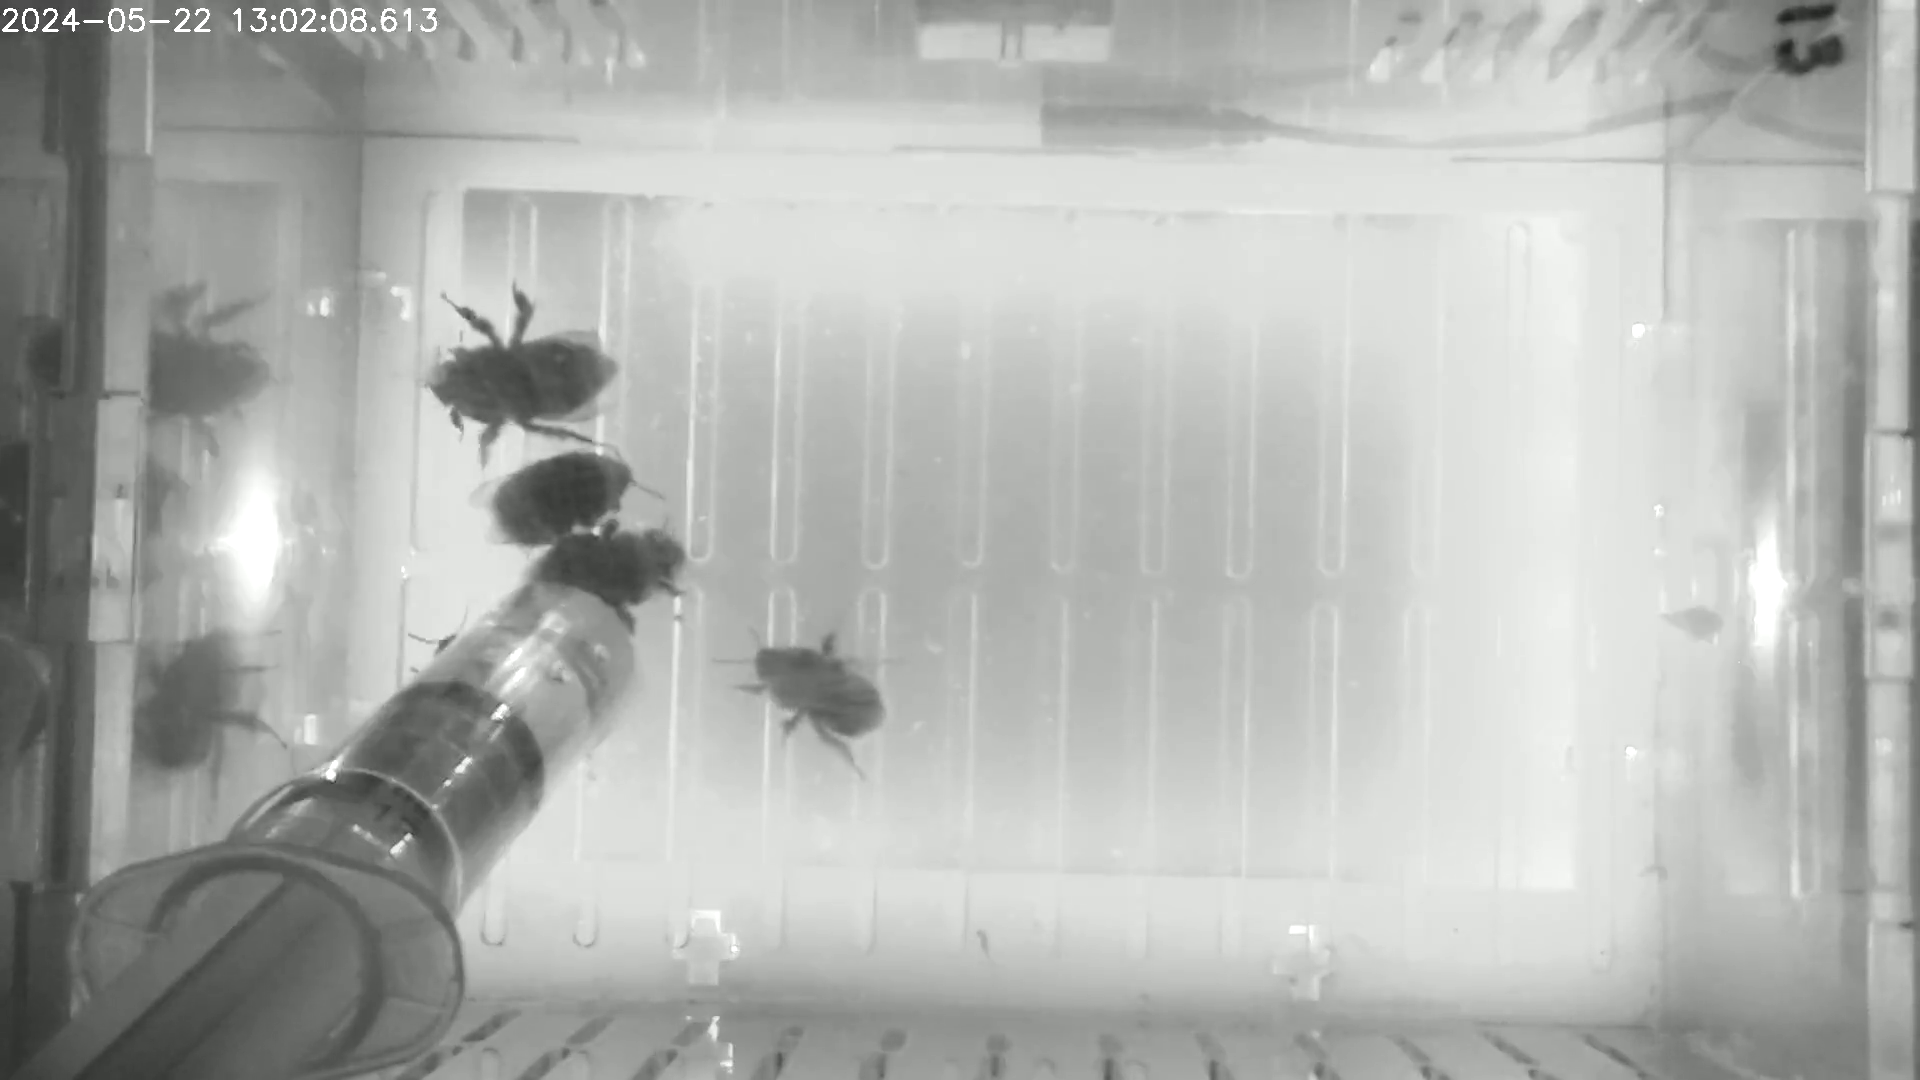bee: (385, 275, 645, 465), (453, 409, 669, 579), (710, 618, 902, 787), (515, 512, 707, 630), (376, 610, 485, 692)
feeder: (426, 532, 677, 782)
